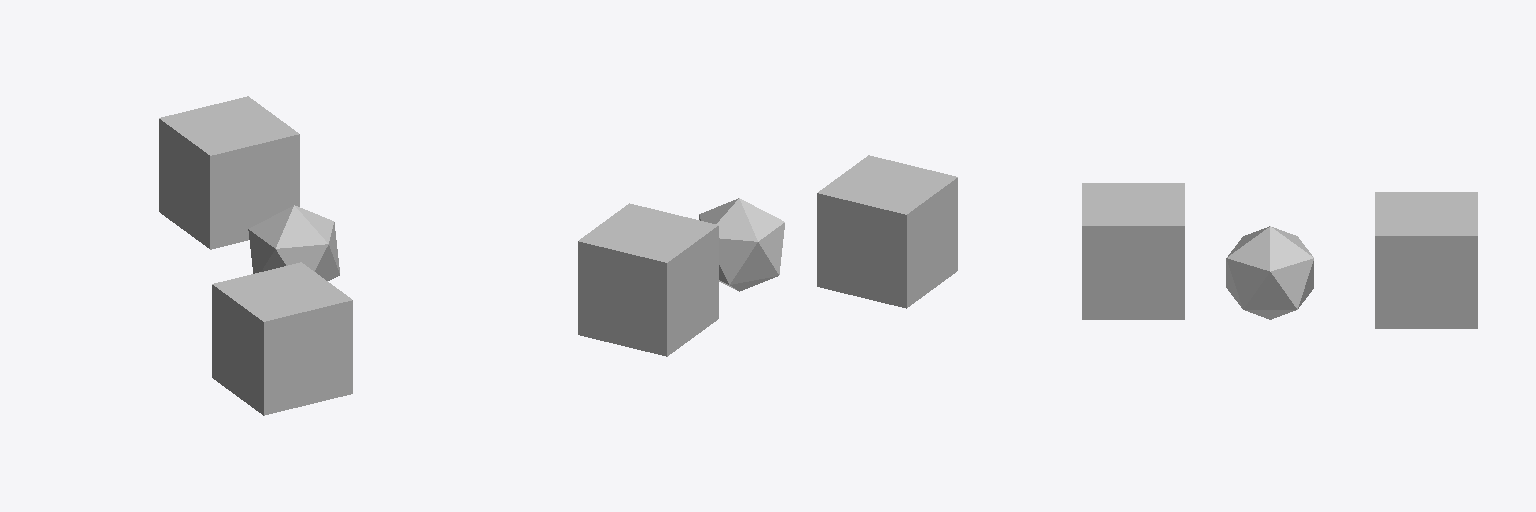
The model's file is threeobjs.obj.
3 renders of one model, left to right at view 1: azimuth 30°, elevation 25°; view 2: azimuth 150°, elevation 25°; view 3: azimuth 270°, elevation 25°, orthographic.
Parts seen in each view (by area): view 1: Cube.001, Cube, Icosphere; view 2: Cube.001, Cube, Icosphere; view 3: Cube.001, Cube, Icosphere.
Part boxes in pixels (left/top/right/bottom): Cube.001: left=212, top=262, right=352, bottom=415; Cube: left=159, top=96, right=299, bottom=249; Icosphere: left=248, top=205, right=339, bottom=280; Cube.001: left=817, top=155, right=957, bottom=308; Cube: left=578, top=203, right=718, bottom=356; Icosphere: left=699, top=198, right=784, bottom=291; Cube.001: left=1082, top=183, right=1184, bottom=319; Cube: left=1375, top=192, right=1477, bottom=328; Icosphere: left=1226, top=226, right=1313, bottom=319.
Size of the model in its own units: 4.08 by 2.77 by 7.65.